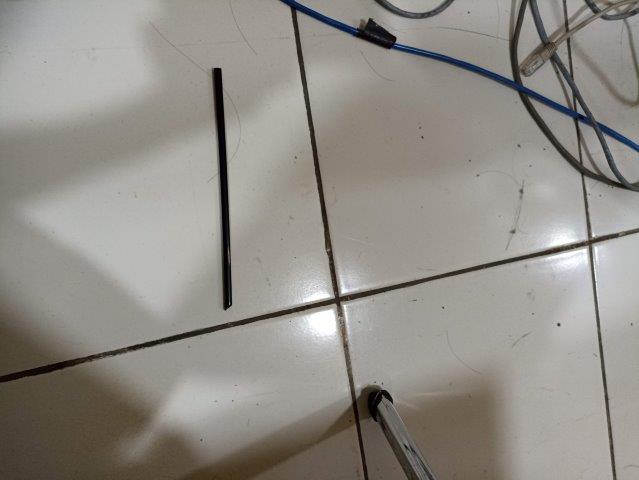sedotan: (213, 68, 233, 311)
